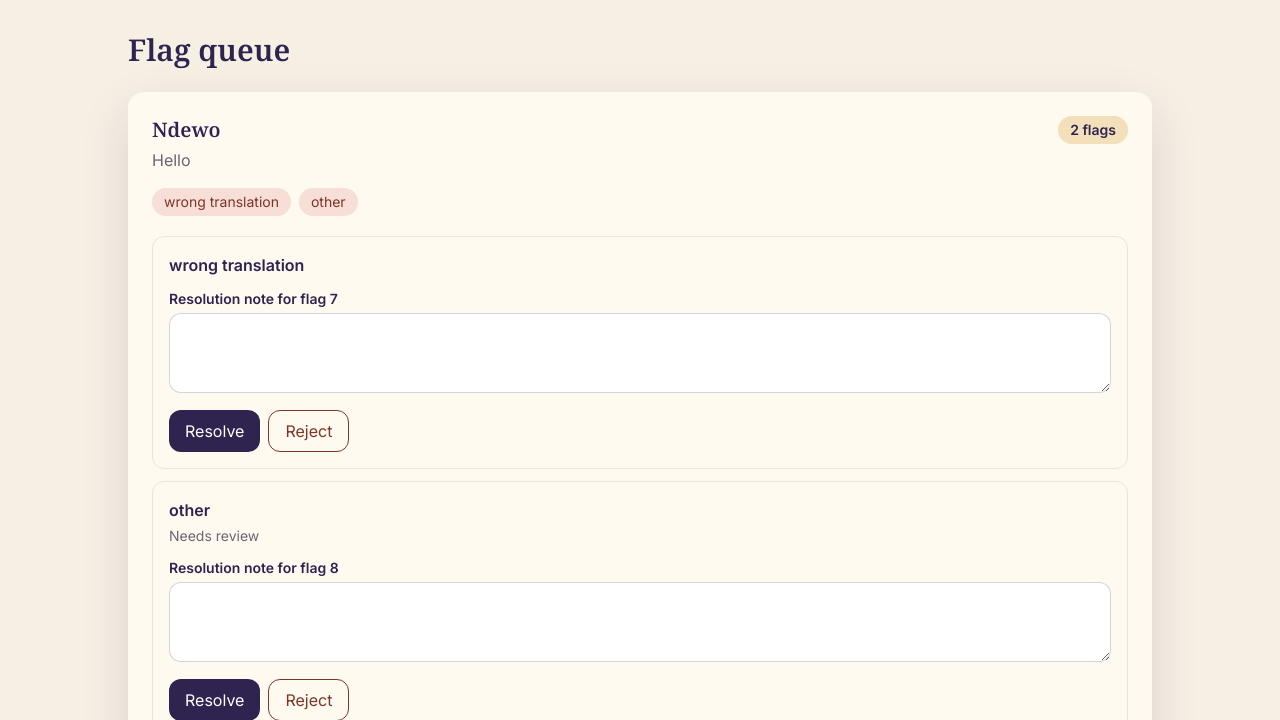
Test: AdminRoute › resolves a flag with the correct request and removes it without reloading
Type "Fixed" into the text box labelled "Resolution note for flag 7". click: [640, 353]
box: [169,313,1111,393]
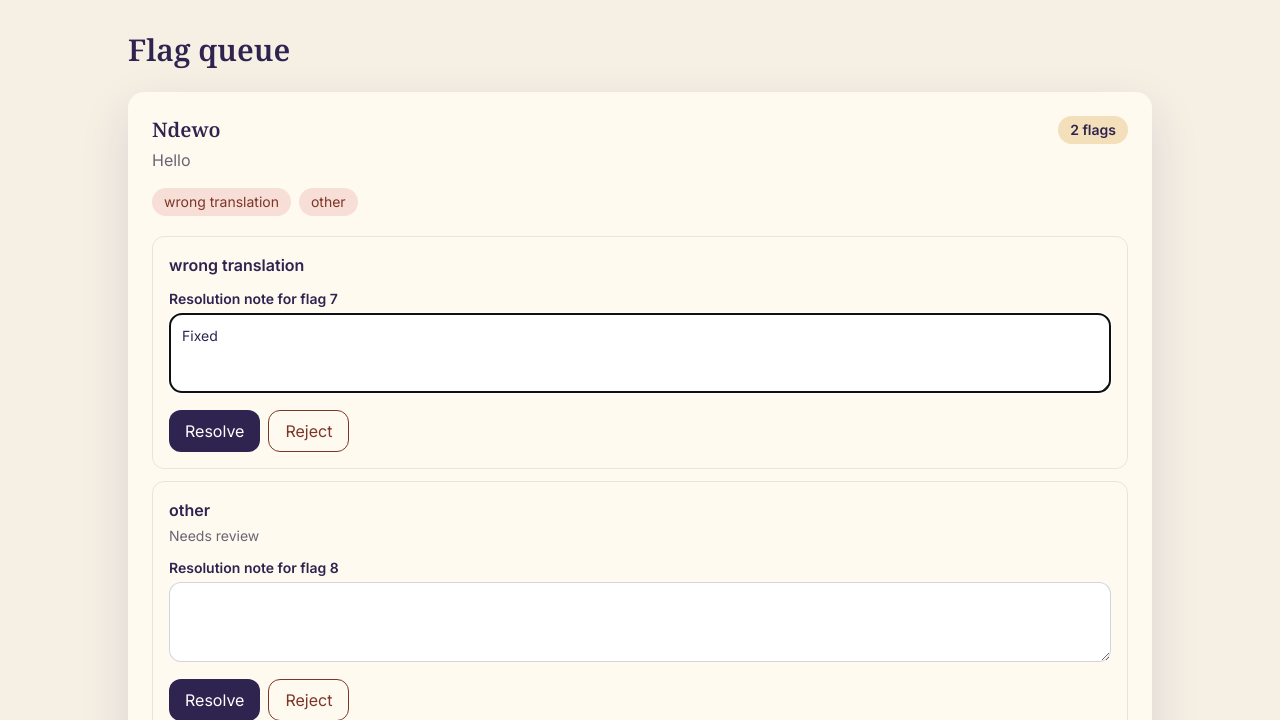
Click the button with aria-label "Resolve flag 7". click: [215, 431]
box: [169,410,260,452]
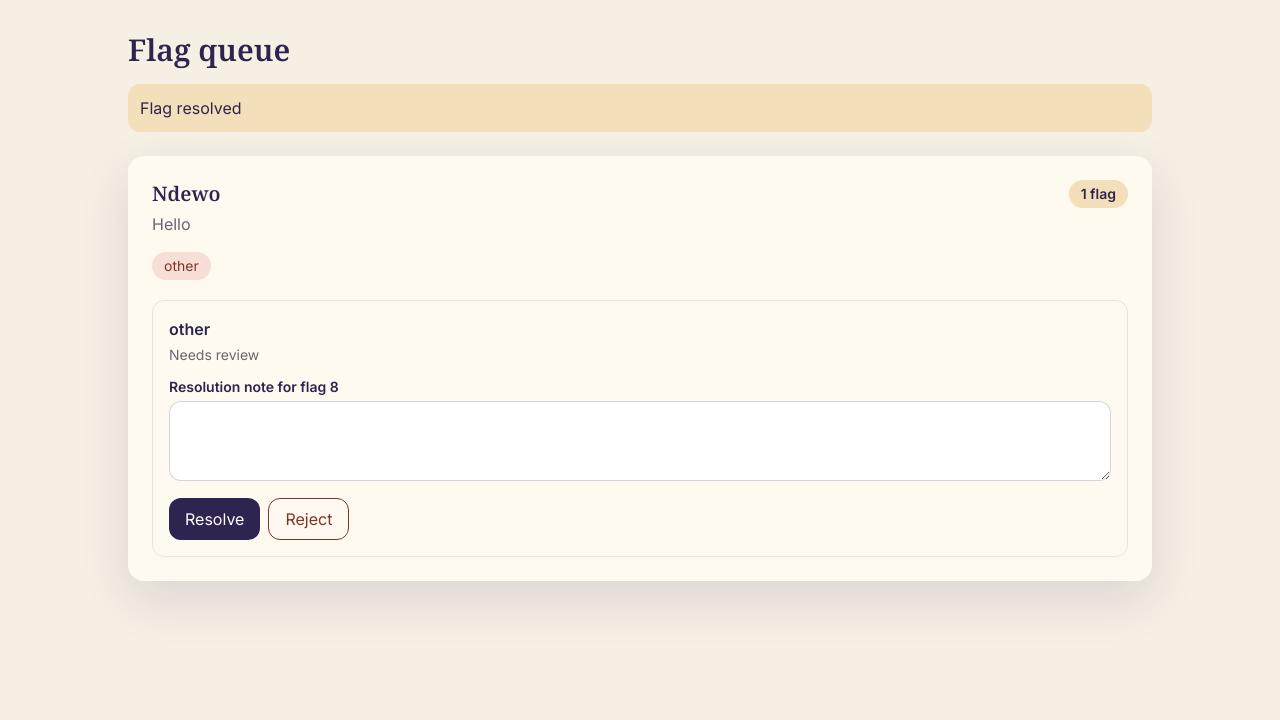
Check: the list item "wrong translation" is gone
Check: the text "Flag resolved" is shown, box [128,84,1152,132]
